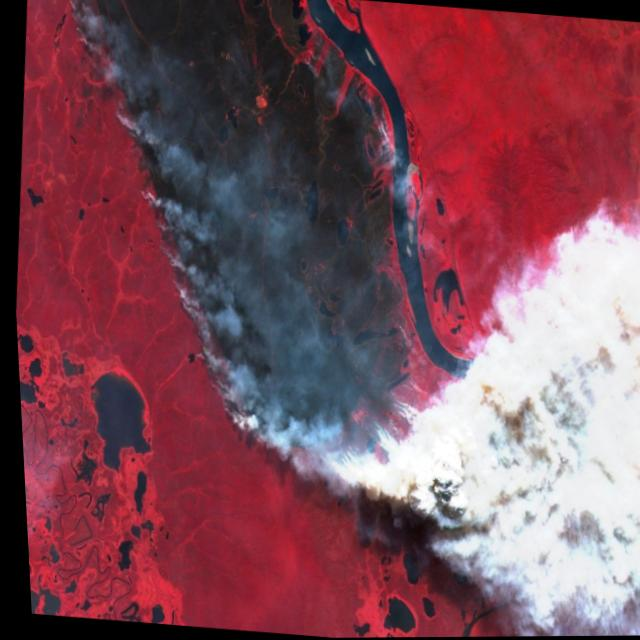fire: (6, 0, 503, 525)
